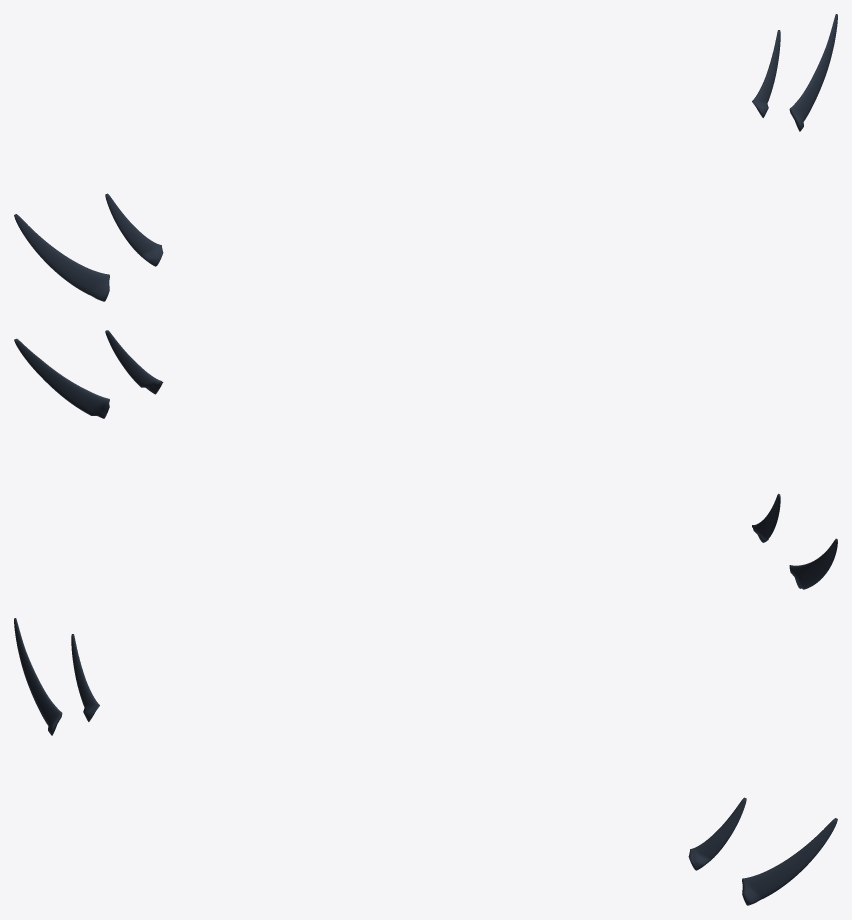
File: Feminine-almond-lashes.glb
3 views of the same model, one above another, from view 1: azimuth 30°, elevation 25°; view 2: azimuth 150°, elevation 25°; view 3: azimuth 330°, elevation 25° (orthographic).
Visible parts, largest first — view 1: 226 eyelashes / Lashes / charcoal234; view 2: 226 eyelashes / Lashes / charcoal234; view 3: 226 eyelashes / Lashes / charcoal234.
Boxes of the visible parts, x1,y1,x2,y2 form: 226 eyelashes / Lashes / charcoal234: (14, 14, 837, 301); 226 eyelashes / Lashes / charcoal234: (14, 330, 837, 589); 226 eyelashes / Lashes / charcoal234: (14, 618, 837, 905).
Size of the model in its own units: 0.4939 by 0.0564 by 0.0367.
